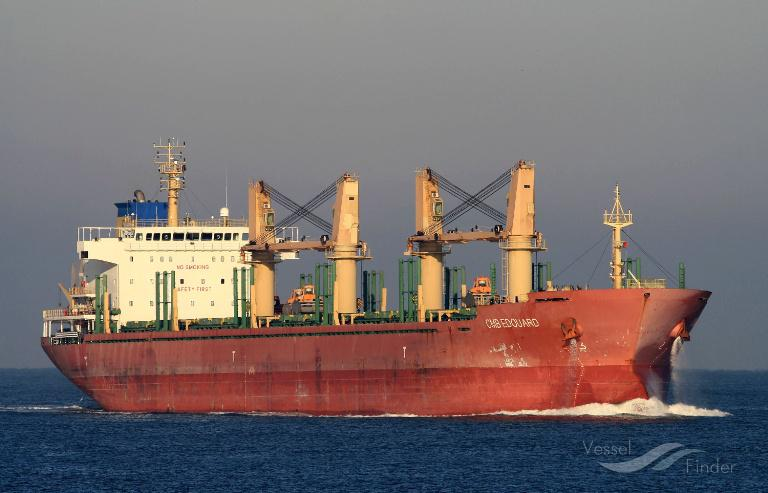OCR: (479, 313, 547, 337)
